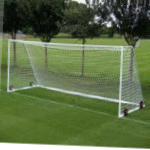goals: (6, 38, 147, 120)
